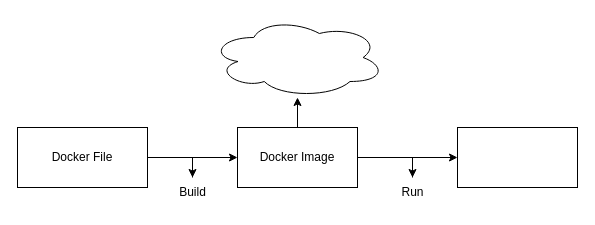
This 595x225 diagram has some shape labels left out. Each missing label, with the centre of its shape:
"Docker Container" goes at [517,157].
"Repository Docker Hub" goes at [297,57].
